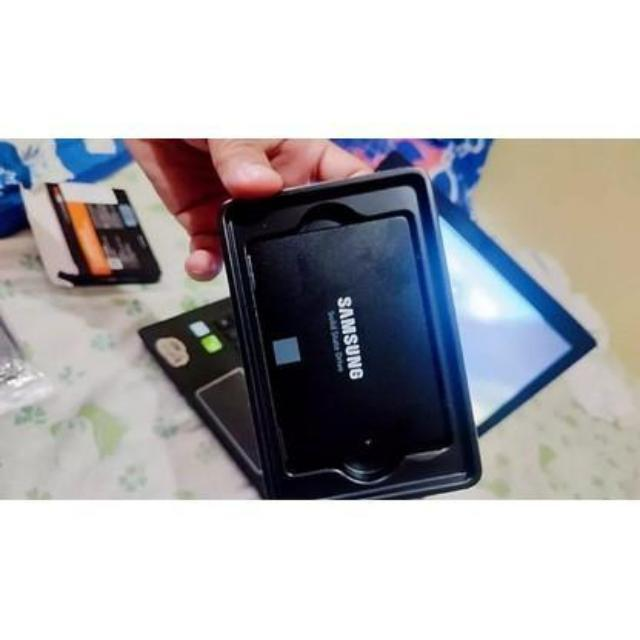DISK: (237, 206, 466, 468)
